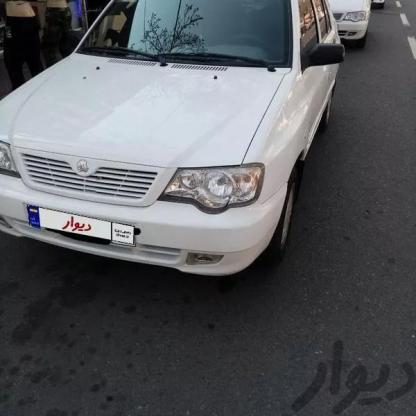Car: (0, 0, 340, 269), (315, 0, 400, 61)
